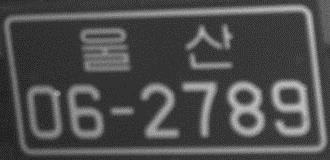-: (106, 103, 138, 118)
0: (24, 82, 65, 142)
2: (138, 81, 181, 142)
6: (66, 82, 105, 142)
7: (178, 78, 217, 141)
8: (226, 81, 269, 136)
9: (271, 77, 313, 138)
울산_D: (77, 18, 235, 75)
